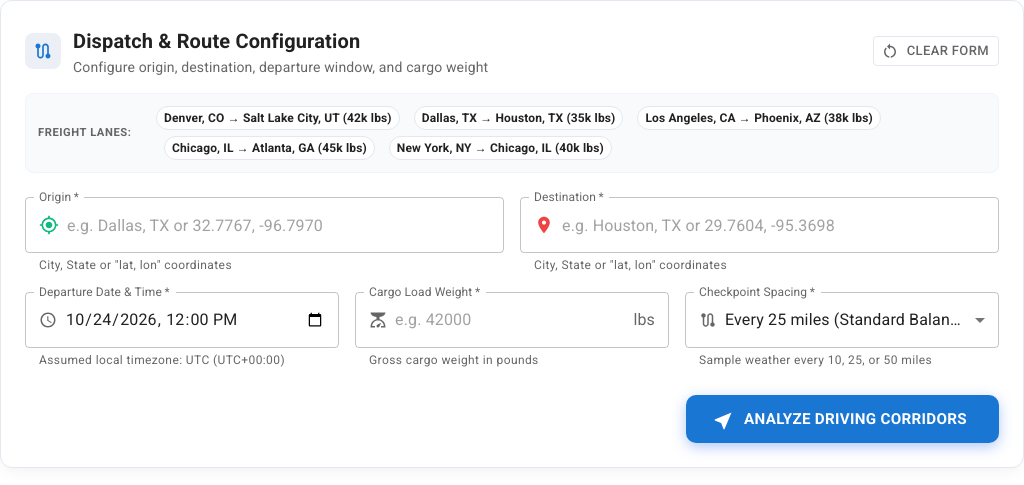
Test: TripPlannerForm component › clears form inputs when Clear Form button is clicked
First populate via preset
Step 1. Click the button "Dallas, TX → Houston, TX (35k lbs)" → (519, 118), box [414,106,624,130]
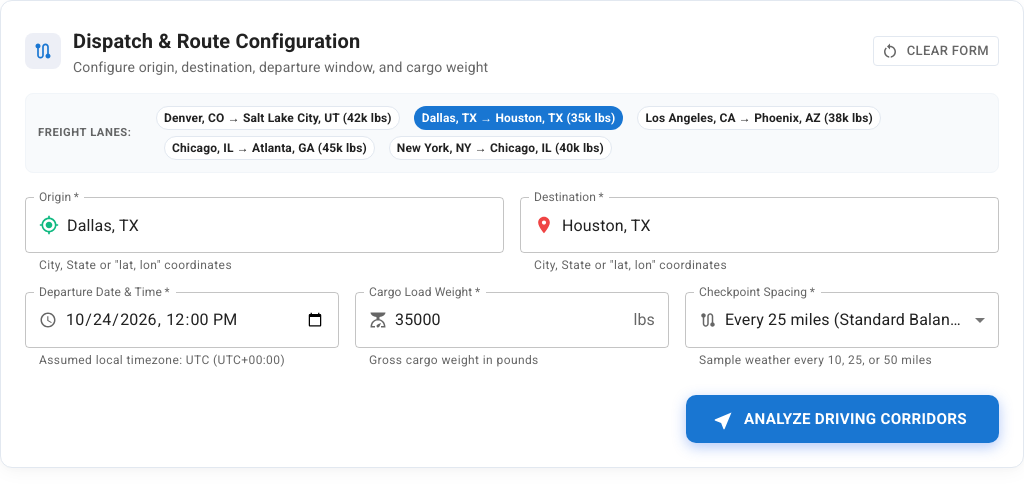
Then clear
Step 2. Click the button with aria-label "clear form inputs" → (936, 51), box [873,36,999,66]
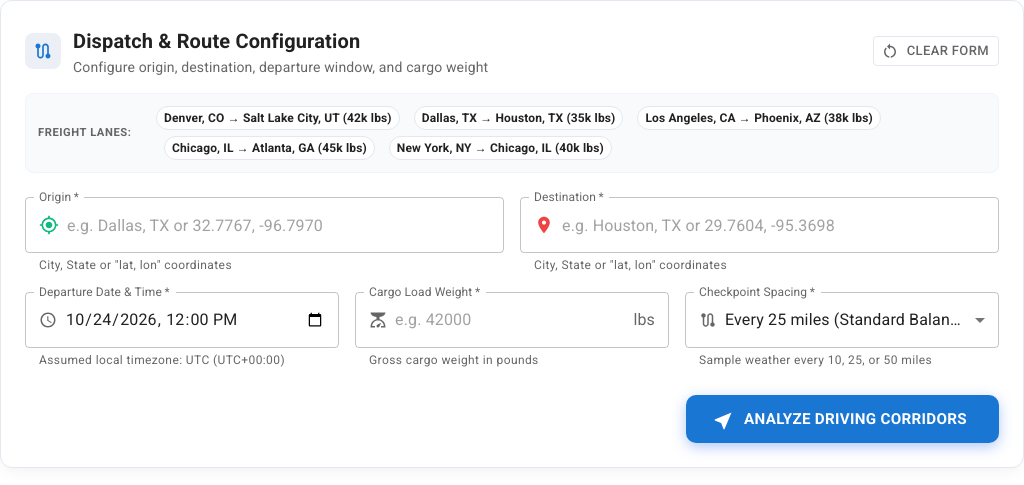
Expected: the field named "origin address" is empty, [67,197,504,253]
Expected: the field named "destination address" is empty, [562,197,999,253]
Expected: the number field labelled "Cargo Load Weight *" is empty, [395,292,625,348]
